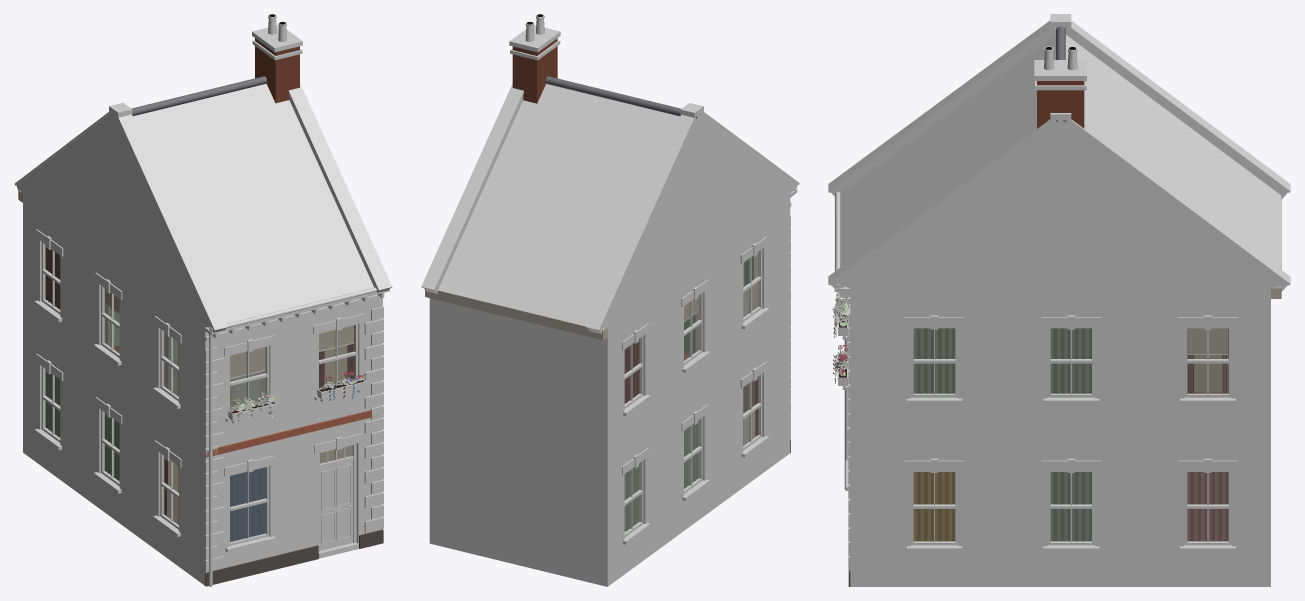
The model's file is GateStreet_BehindOuter6.glb.
3 views of the same model, side by side, from view 1: azimuth 30°, elevation 25°; view 2: azimuth 150°, elevation 25°; view 3: azimuth 270°, elevation 25° (orthographic). The views are drawn at different scales.
Visible parts, largest first — view 1: GateStreet_BehindOuter6; view 2: GateStreet_BehindOuter6; view 3: GateStreet_BehindOuter6.
Boxes of the visible parts, x1,y1,x2,y2 form: GateStreet_BehindOuter6: (14, 14, 392, 586); GateStreet_BehindOuter6: (421, 14, 799, 586); GateStreet_BehindOuter6: (828, 14, 1290, 586).
Size of the model in its own units: 4.68 by 11.13 by 8.79.
